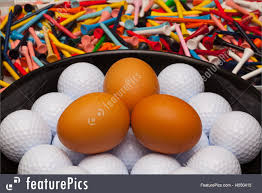ball: (1, 104, 56, 166), (208, 106, 262, 166), (181, 90, 240, 135), (153, 58, 206, 108), (30, 88, 78, 136), (181, 142, 246, 177), (56, 58, 106, 102), (14, 141, 75, 173)
egg: (55, 89, 132, 157), (130, 91, 205, 159), (102, 52, 163, 119)
